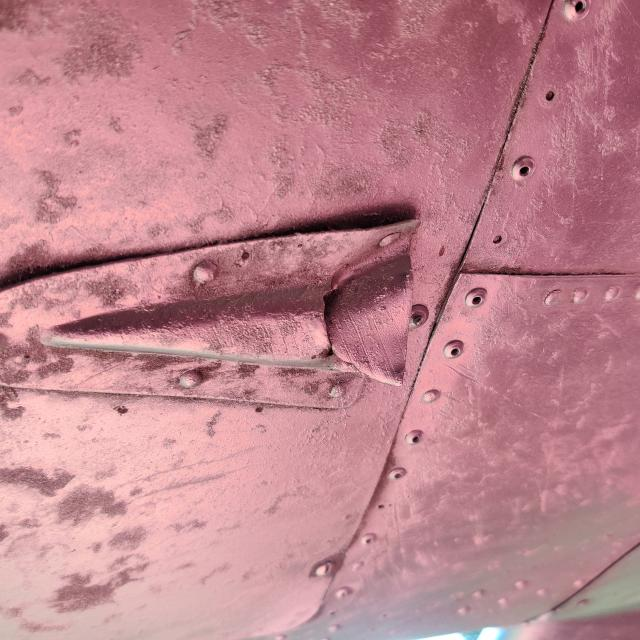crack: (306, 266, 364, 376)
